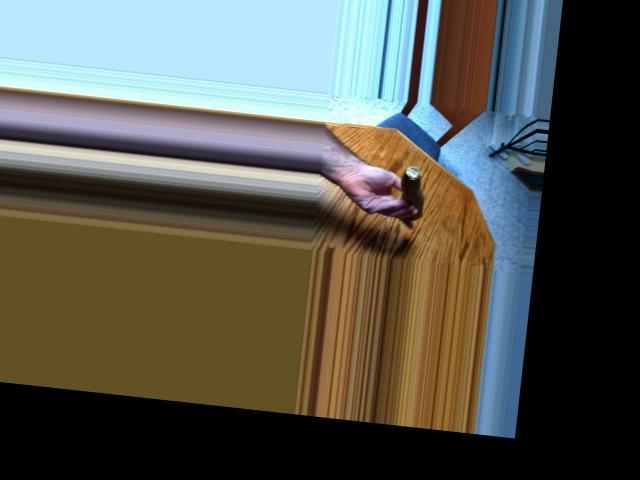sweet_potato: (404, 172, 428, 222)
